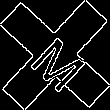M_NE: (21, 21, 89, 89)
